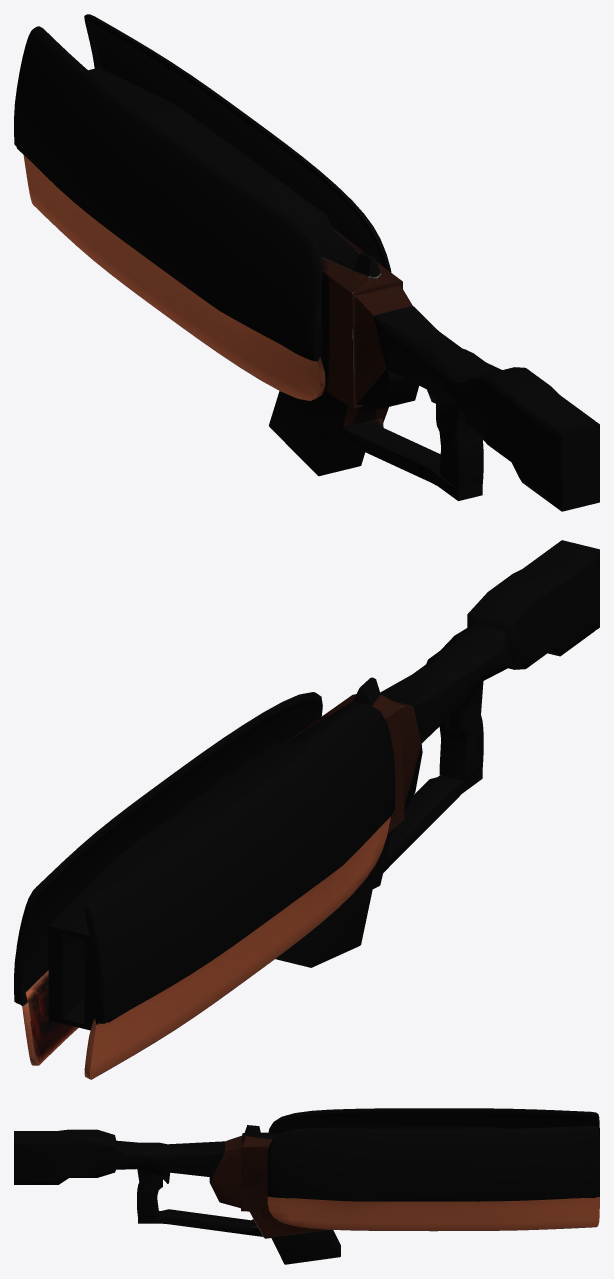
Rendered from lasergun.glb.
3 renders of one model, top to bottom at view 1: azimuth 30°, elevation 25°; view 2: azimuth 150°, elevation 25°; view 3: azimuth 270°, elevation 25°, orthographic. The views are drawn at different scales.
Parts seen in each view (by area): view 1: new_gun; view 2: new_gun; view 3: new_gun.
Boxes of the visible parts, left/top/right/bottom form: new_gun: left=14, top=14, right=599, bottom=511; new_gun: left=14, top=540, right=599, bottom=1079; new_gun: left=14, top=1108, right=599, bottom=1264.
Bounding box in the file's own units: 0.1258 × 0.2395 × 0.9085.
Materials: 1 (1 with a texture image).
